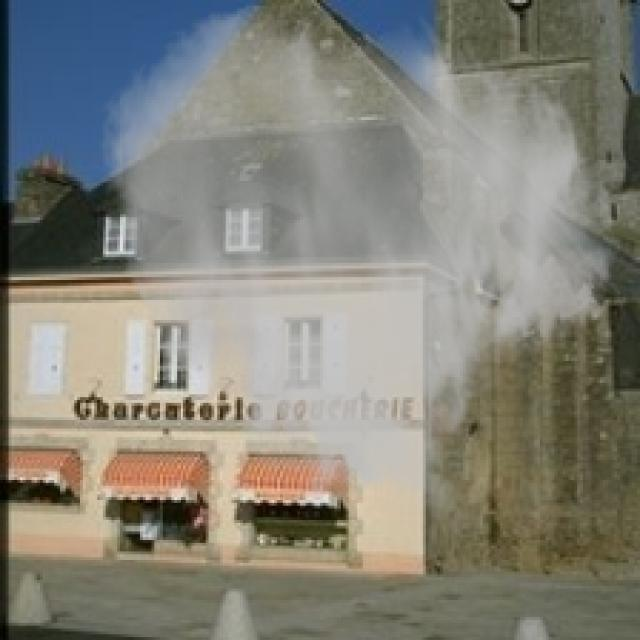smoke: (97, 0, 620, 523)
